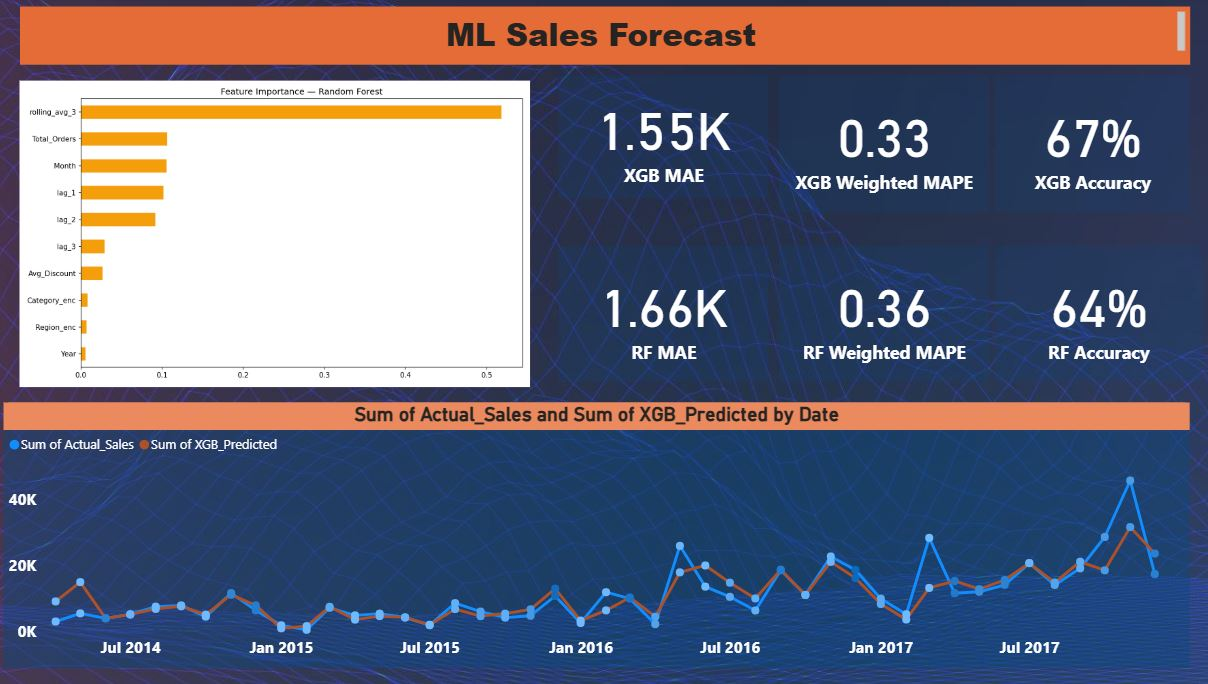

The page's visual inventory and layout, read from the dashboard file:
{"tool":"powerbi","page":{"name":"ML Sales Forecast","canvas":[1280,720],"ordinal":3},"visuals":[{"type":"lineChart","fields":{"Category":["DateTable.Date"],"Y":["Sum(sales_predictions.Actual_Sales)","Sum(sales_predictions.XGB_Predicted)"]},"box":[14.1,423.6,1236.3,276.6],"z":0},{"type":"card","fields":{"Values":["sales_predictions.XGB Accuracy"]},"box":[1047.2,82.8,203.2,142.2],"z":1000},{"type":"card","fields":{"Values":["sales_predictions.XGB Weighted MAPE"]},"box":[822.1,82.8,218.8,142.2],"z":2000},{"type":"card","fields":{"Values":["sales_predictions.MAE"]},"box":[592.4,82.8,218.8,128.2],"z":3000},{"type":"card","fields":{"Values":["sales_predictions.RF MAE"]},"box":[592.4,261,218.8,140.7],"z":4000},{"type":"image","box":[14.1,82.8,565.8,329.8],"z":5000},{"type":"card","fields":{"Values":["sales_predictions.RF Weighted MAPE"]},"box":[822.1,261,218.8,140.7],"z":6000},{"type":"card","fields":{"Values":["sales_predictions.RF Accuracy"]},"box":[1047.2,261,215.7,140.7],"z":7000},{"type":"textbox","box":[31.3,10.9,1219.1,61],"z":7001}]}

Visuals, with their boxes in screenshot pixels (x1, y1, x2, y2), scaled from the page's 1280x720 canvas onto the 1208x684 screenshot:
lineChart - DateTable.Date x Sum(sales_predictions.Actual_Sales): x1=13, y1=402, x2=1180, y2=665
card - sales_predictions.XGB Accuracy: x1=988, y1=79, x2=1180, y2=214
card - sales_predictions.XGB Weighted MAPE: x1=776, y1=79, x2=982, y2=214
card - sales_predictions.MAE: x1=559, y1=79, x2=766, y2=200
card - sales_predictions.RF MAE: x1=559, y1=248, x2=766, y2=382
image: x1=13, y1=79, x2=547, y2=392
card - sales_predictions.RF Weighted MAPE: x1=776, y1=248, x2=982, y2=382
card - sales_predictions.RF Accuracy: x1=988, y1=248, x2=1192, y2=382
textbox: x1=30, y1=10, x2=1180, y2=68
